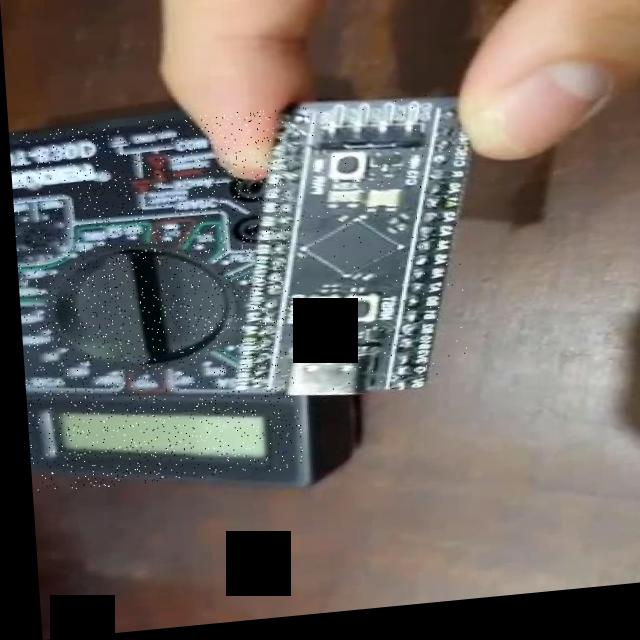multimeter: (7, 113, 298, 494)
stm32: (207, 100, 464, 405)
